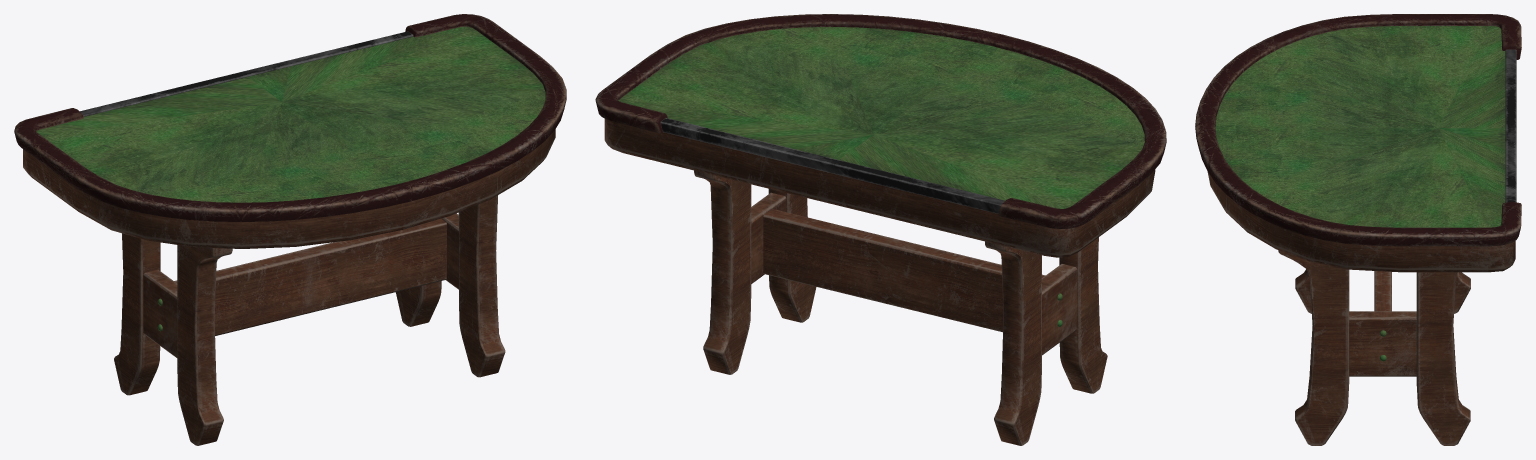
File: Table.fbx
3 renders of one model, left to right at view 1: azimuth 30°, elevation 25°; view 2: azimuth 150°, elevation 25°; view 3: azimuth 270°, elevation 25°, orthographic. The views are drawn at different scales.
Parts seen in each view (by area): view 1: Blackjack_Table; view 2: Blackjack_Table; view 3: Blackjack_Table.
Part boxes in pixels (x1,y1,x2,y2): Blackjack_Table: (14, 14, 566, 445); Blackjack_Table: (595, 14, 1166, 445); Blackjack_Table: (1195, 14, 1521, 445).
Size of the model in its own units: 199 by 123 by 106.
